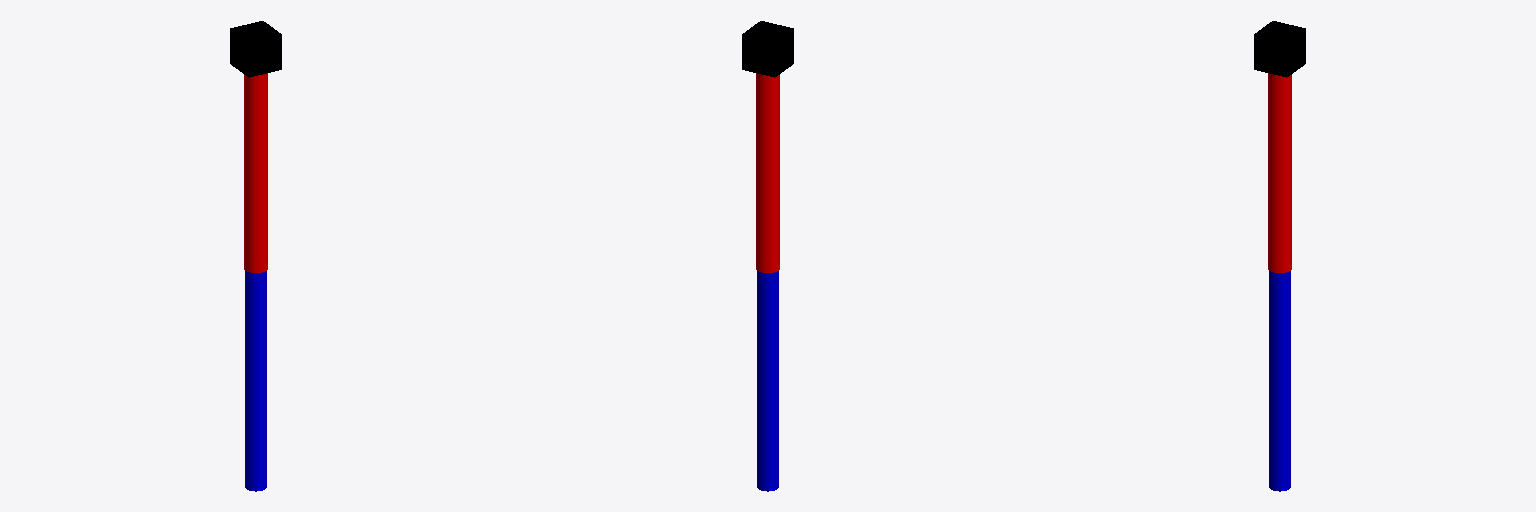
robot.urdf — DoublePendulum:
<?xml version="1.0"?>
<robot name="DoublePendulum">

  <!-- Base -->
  <link name="base_link">
    <visual>
      <geometry>
        <box size="0.16 0.16 0.16"/>
      </geometry>
      <material name="black">
        <color rgba="0 0 0 1"/>
      </material>
    </visual>
  </link>

  <!-- First link -->
  <link name="link1">
    <visual>
      <!-- cylinder of length 1, centered at z=-0.5 so the top is at the joint -->
      <origin xyz="0 0 -0.5" rpy="0 0 0"/>
      <geometry>
        <cylinder length="1.0" radius="0.05"/>
      </geometry>
      <material name="red">
        <color rgba="1 0 0 1"/>
      </material>
    </visual>
  </link>

  <!-- Second link -->
  <link name="link2">
    <visual>
      <origin xyz="0 0 -0.5" rpy="0 0 0"/>
      <geometry>
        <cylinder length="1.0" radius="0.045"/>
      </geometry>
      <material name="blue">
        <color rgba="0 0 1 1"/>
      </material>
    </visual>
  </link>

  <!-- Joint 1: base -> link1 -->
  <joint name="joint1" type="revolute">
    <parent link="base_link"/>
    <child link="link1"/>
    <origin xyz="0 0 0" rpy="0 0 0"/>
    <!-- rotate in the same plane as your simple pendulum -->
    <axis xyz="0 1 0"/>
    <!-- optional limits -->
    <limit lower="-3.1416" upper="3.1416" effort="100" velocity="20"/>
  </joint>

  <!-- Joint 2: link1 -> link2
       place it at the end of link1: since link1 extends to z=-1, joint2 is at z=-1 in link1 frame -->
  <joint name="joint2" type="revolute">
    <parent link="link1"/>
    <child link="link2"/>
    <origin xyz="0 0 -1.0" rpy="0 0 0"/>
    <axis xyz="0 1 0"/>
    <limit lower="-3.1416" upper="3.1416" effort="100" velocity="20"/>
  </joint>

</robot>

--- What the picture shows (computed from the rendered views, not written in the file) ---
The picture shows the robot from 3 angles, left to right: view 1: azimuth 30°, elevation 25°; view 2: azimuth 150°, elevation 25°; view 3: azimuth 330°, elevation 25°; orthographic projection.
Model DoublePendulum with 3 links and 2 joints (2 revolute), rooted at base_link, posed all joints at 0.
Links seen in each view (by area): view 1: link2, link1, base_link; view 2: link2, link1, base_link; view 3: link2, link1, base_link.
Boxes of the visible links, x1,y1,x2,y2 form: link2: (245,271,266,491); link1: (244,73,267,272); base_link: (230,21,281,77); link2: (757,271,778,491); link1: (756,73,779,272); base_link: (742,21,793,77); link2: (1269,271,1290,491); link1: (1268,73,1291,272); base_link: (1254,21,1305,77).
Size in the robot's own frame: 0.16 by 0.16 by 2.08 metres.
Geometry: primitives only (box / cylinder / sphere), no mesh files.
